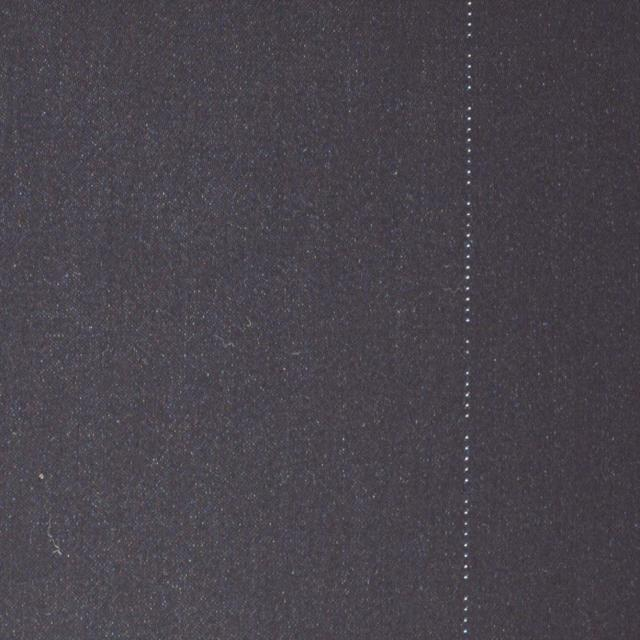Warp_Weft: (458, 0, 478, 640)
